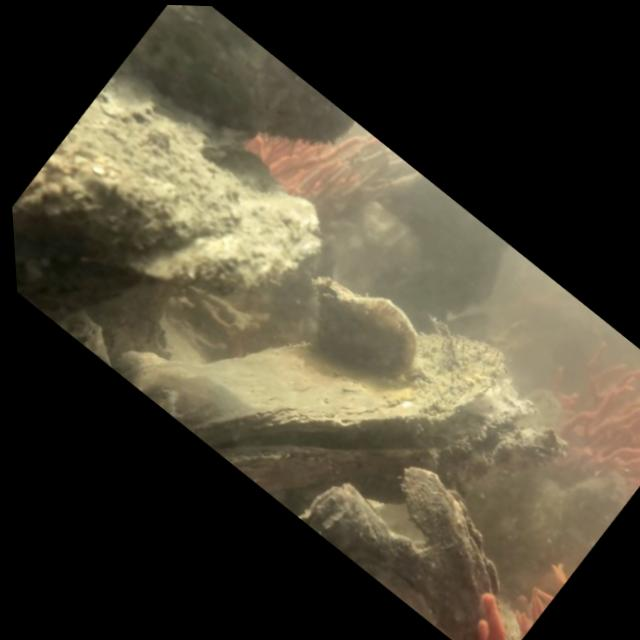Oyster-Closed: (13, 67, 331, 300)
Oyster-Indeterminate: (302, 465, 500, 632)
Oyster-Open: (116, 264, 581, 510)
